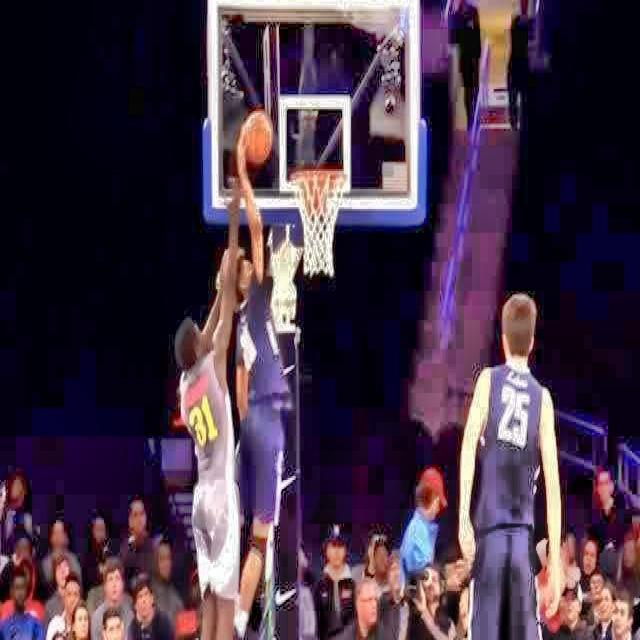rim: (293, 171, 348, 276)
